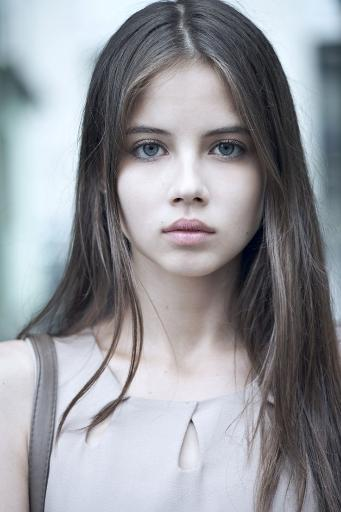left_eye: (208, 140, 249, 164)
left_lip_corner: (209, 226, 221, 241)
right_eye: (131, 142, 170, 164)
right_lip_corner: (159, 226, 170, 241)
